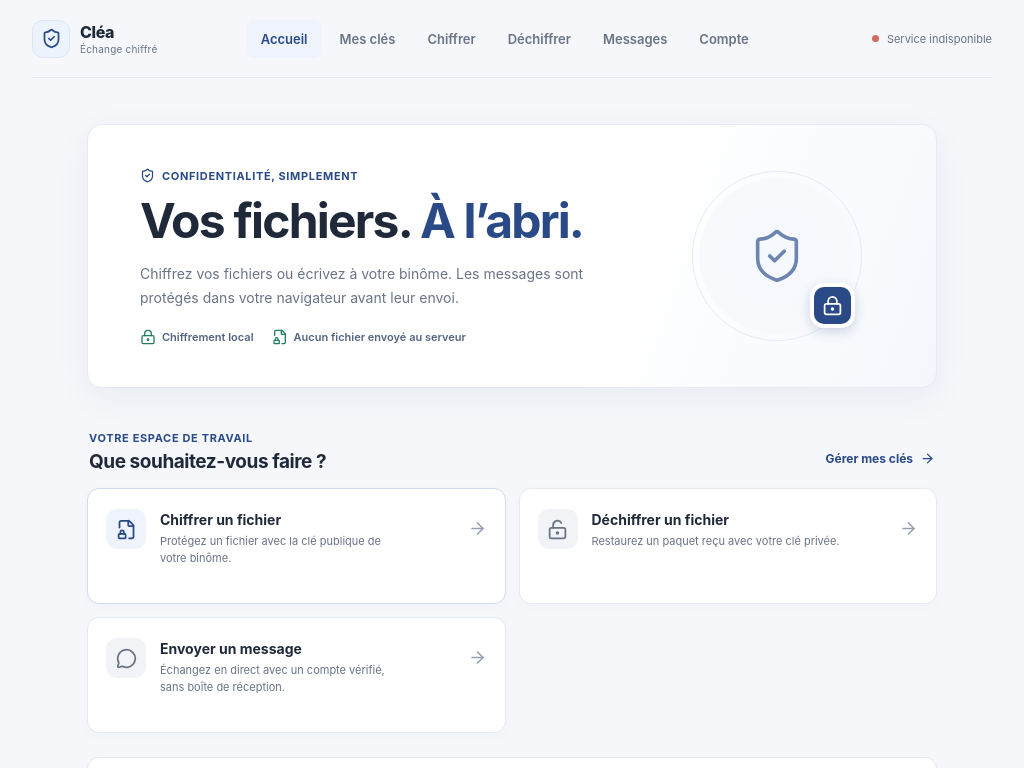
Test case: application navigation › lets the user open the encryption workflow without the backend
Check: the heading "Vos fichiers. À l’abri." is shown, box [140,194,615,248]
Click the button "Chiffrer". click: [452, 38]
box: [413,20,490,58]
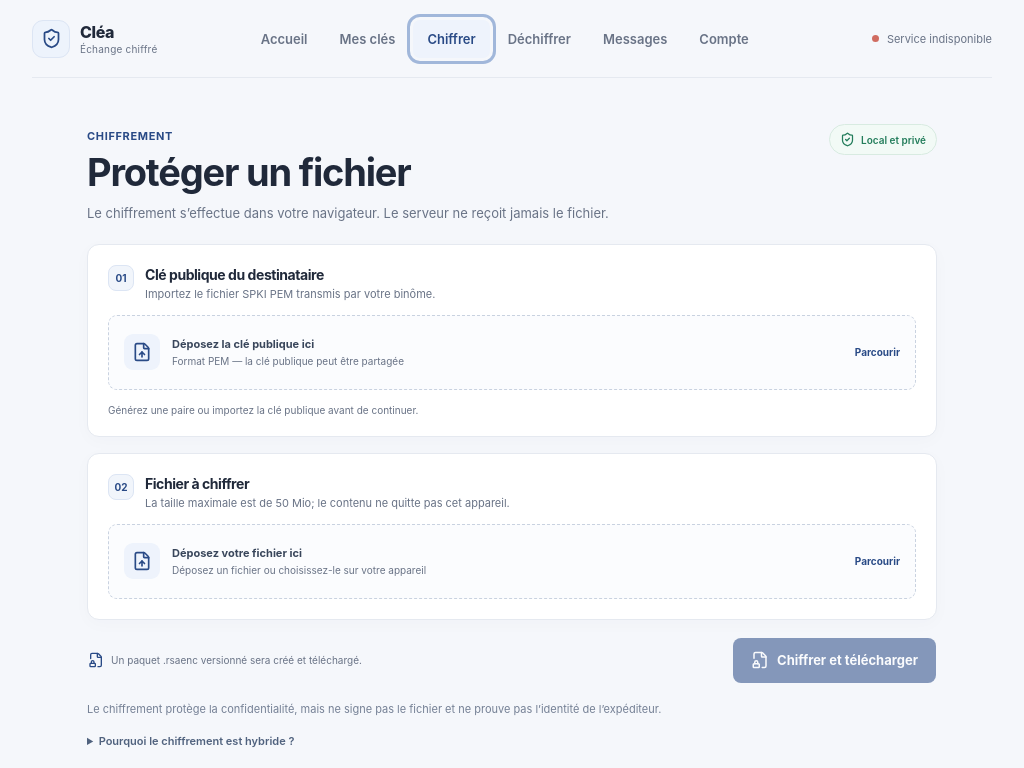
Check: the text "Service indisponible" is shown, box [887,32,992,46]
Check: the heading "Protéger un fichier" is shown, box [87,149,410,195]
